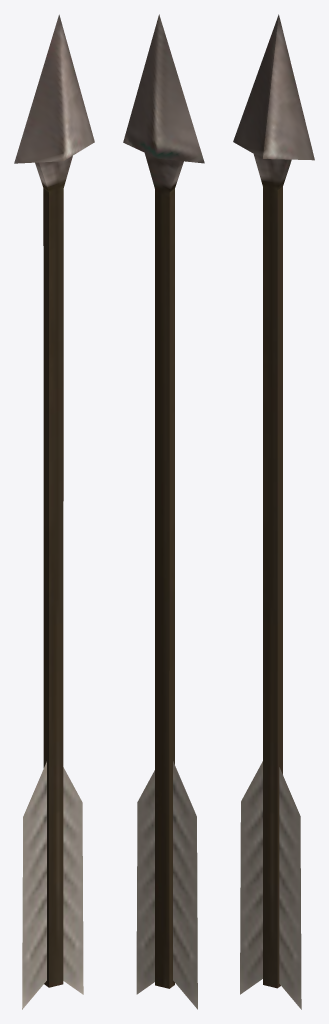
Rendered from gongjianshou_jian.FBX.
3 views of the same model, side by side, from view 1: azimuth 30°, elevation 25°; view 2: azimuth 150°, elevation 25°; view 3: azimuth 330°, elevation 25° (orthographic).
Parts seen in each view (by area): view 1: xiaobing_jian; view 2: xiaobing_jian; view 3: xiaobing_jian.
Boxes of the visible parts, x1,y1,x2,y2 form: xiaobing_jian: [14, 14, 94, 1009]; xiaobing_jian: [123, 14, 204, 1009]; xiaobing_jian: [233, 14, 314, 1009].
Bounding box in the file's own units: 3.97 × 46.06 × 1.48.
1 material, 1 textured.
